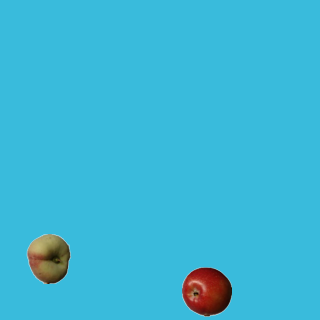Apple Braeburn: (181, 266, 231, 316)
Peach Flat: (23, 233, 73, 283)
